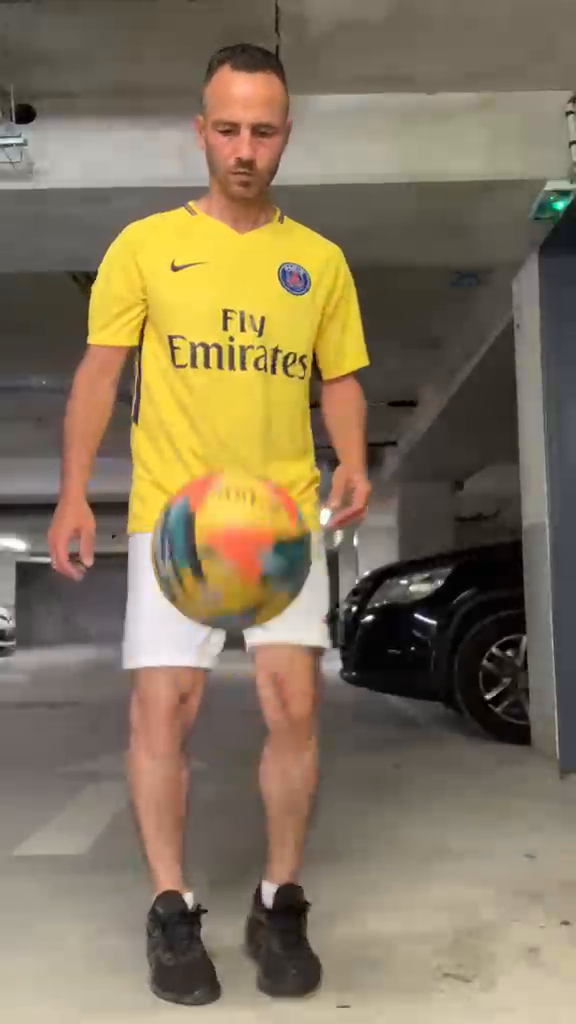ball: (149, 467, 312, 630)
